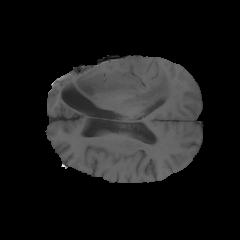glioma: (52, 68, 171, 116)
